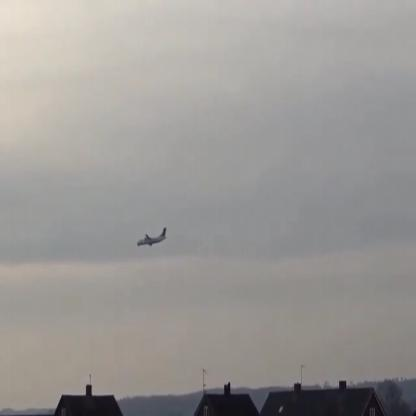CIV_Plane: (136, 226, 167, 247)
